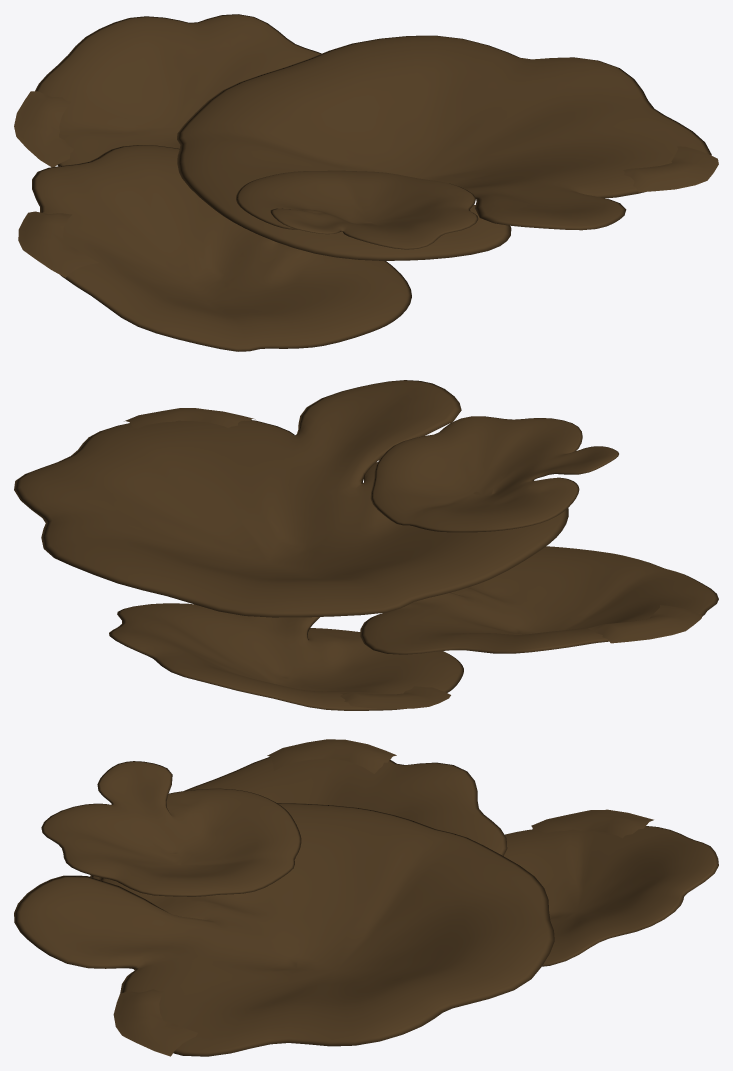
Rendered from SM_Coral_Plate_Montipora_02.obj.
3 views of the same model, one above another, from view 1: azimuth 30°, elevation 25°; view 2: azimuth 150°, elevation 25°; view 3: azimuth 270°, elevation 25° (orthographic). The views are drawn at different scales.
Visible parts, largest first — view 1: SM_Coral_Plate_Montipora_02_LOD0; view 2: SM_Coral_Plate_Montipora_02_LOD0; view 3: SM_Coral_Plate_Montipora_02_LOD0.
Boxes of the visible parts, left/top/right/bottom form: SM_Coral_Plate_Montipora_02_LOD0: left=14, top=14, right=718, bottom=351; SM_Coral_Plate_Montipora_02_LOD0: left=14, top=380, right=718, bottom=710; SM_Coral_Plate_Montipora_02_LOD0: left=14, top=739, right=718, bottom=1056.
Size of what is drawn, in the model's own units: 275 by 50.37 by 259.
